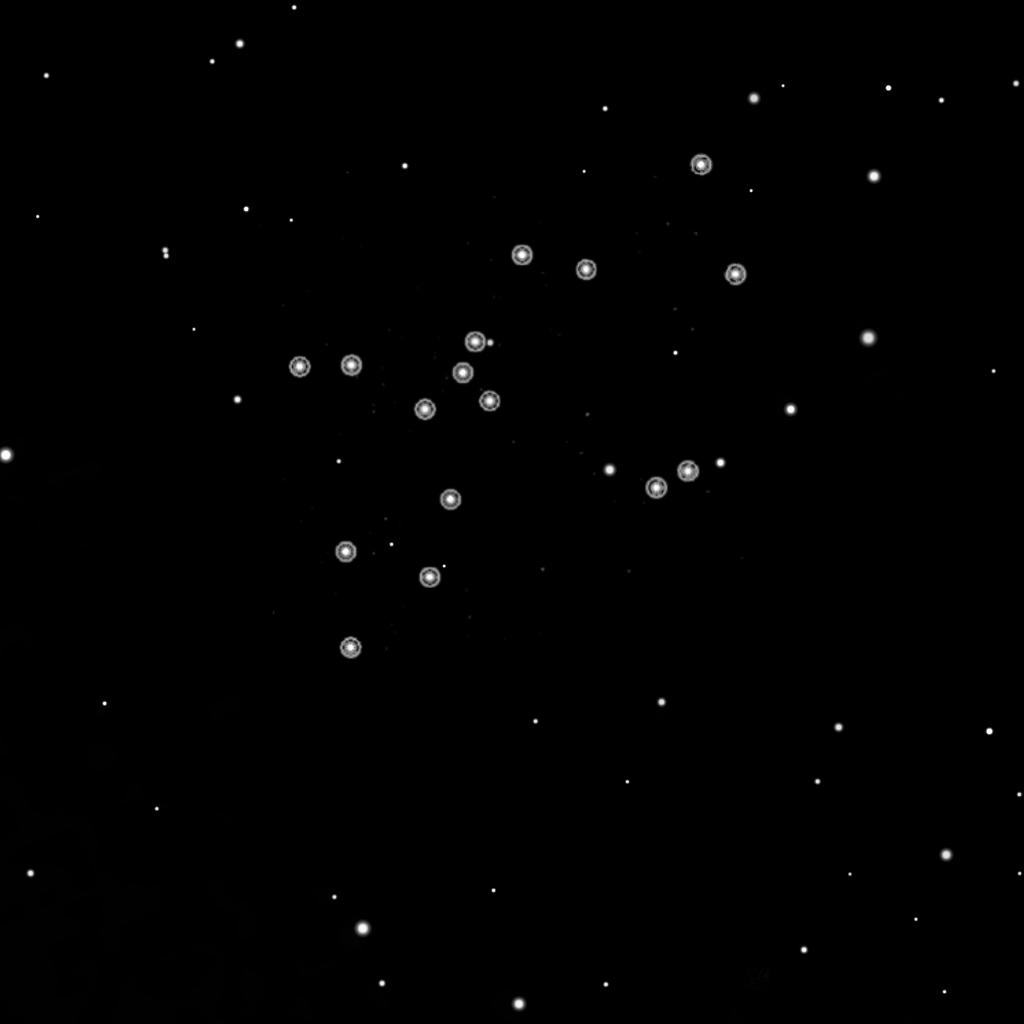canis_major: (408, 237, 603, 431)
